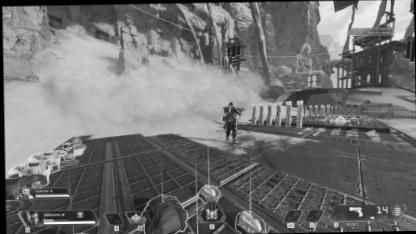Target: (222, 99, 240, 142)
